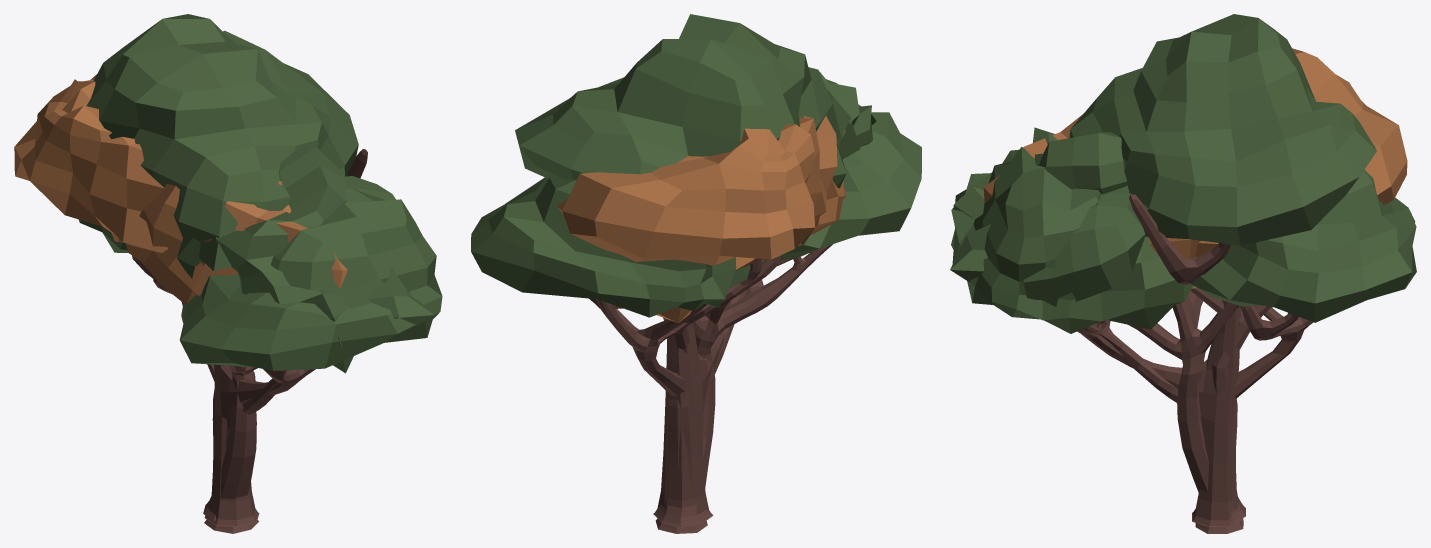
File: trees.glb
The picture shows the model from 3 angles, left to right: view 1: azimuth 30°, elevation 25°; view 2: azimuth 150°, elevation 25°; view 3: azimuth 270°, elevation 25°; orthographic projection. The views are drawn at different scales.
Parts seen in each view (by area): view 1: CommonTree_2_Cube.036, CommonTree_1_Cube.049, CommonTree_Autumn_4_Cube.098, CommonTree_Autumn_5_Cube.139; view 2: CommonTree_2_Cube.036, CommonTree_1_Cube.049, CommonTree_Autumn_4_Cube.098, CommonTree_Autumn_5_Cube.139; view 3: CommonTree_2_Cube.036, CommonTree_1_Cube.049, CommonTree_Autumn_5_Cube.139, CommonTree_Autumn_4_Cube.098.
Part boxes in pixels (left/top/right/bottom): CommonTree_2_Cube.036: left=86, top=14, right=433, bottom=526; CommonTree_1_Cube.049: left=78, top=188, right=442, bottom=446; CommonTree_Autumn_4_Cube.098: left=14, top=74, right=258, bottom=533; CommonTree_Autumn_5_Cube.139: left=111, top=181, right=347, bottom=521; CommonTree_2_Cube.036: left=515, top=14, right=876, bottom=527; CommonTree_1_Cube.049: left=471, top=71, right=921, bottom=411; CommonTree_Autumn_4_Cube.098: left=557, top=116, right=826, bottom=533; CommonTree_Autumn_5_Cube.139: left=615, top=92, right=846, bottom=525; CommonTree_2_Cube.036: left=950, top=14, right=1376, bottom=527; CommonTree_1_Cube.049: left=951, top=147, right=1416, bottom=402; CommonTree_Autumn_5_Cube.139: left=983, top=114, right=1245, bottom=523; CommonTree_Autumn_4_Cube.098: left=1190, top=48, right=1407, bottom=533.
Bounding box in the file's own units: 2.07 × 3.18 × 2.78.
